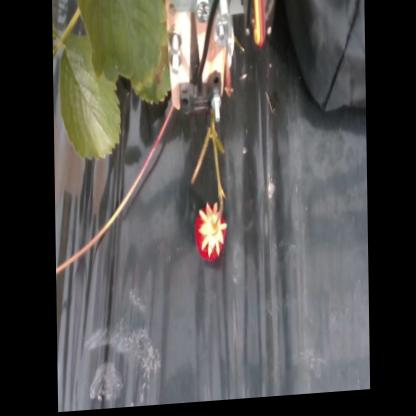ripe: (193, 196, 230, 271)
